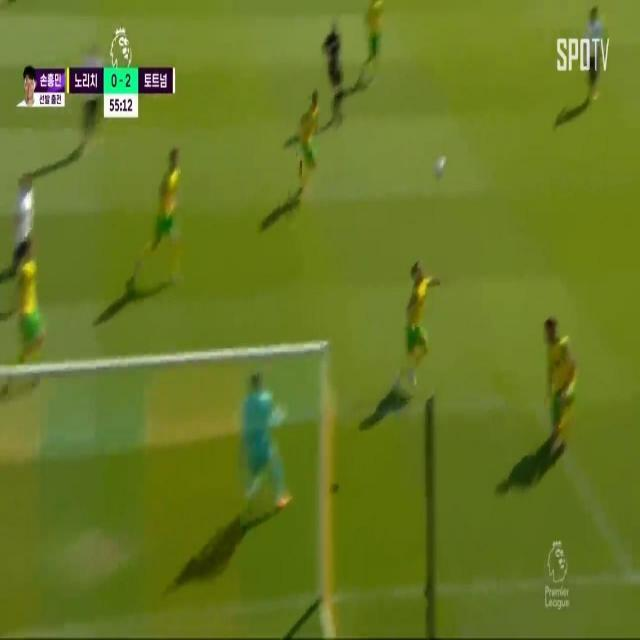goalkeeper: (237, 327, 300, 533)
player: (9, 235, 45, 380), (541, 318, 581, 443), (401, 262, 436, 381), (156, 142, 186, 274), (80, 34, 107, 152), (296, 86, 324, 199), (11, 167, 41, 259), (581, 1, 605, 106), (365, 0, 385, 74)
referee: (323, 16, 350, 126), (434, 145, 450, 186)
